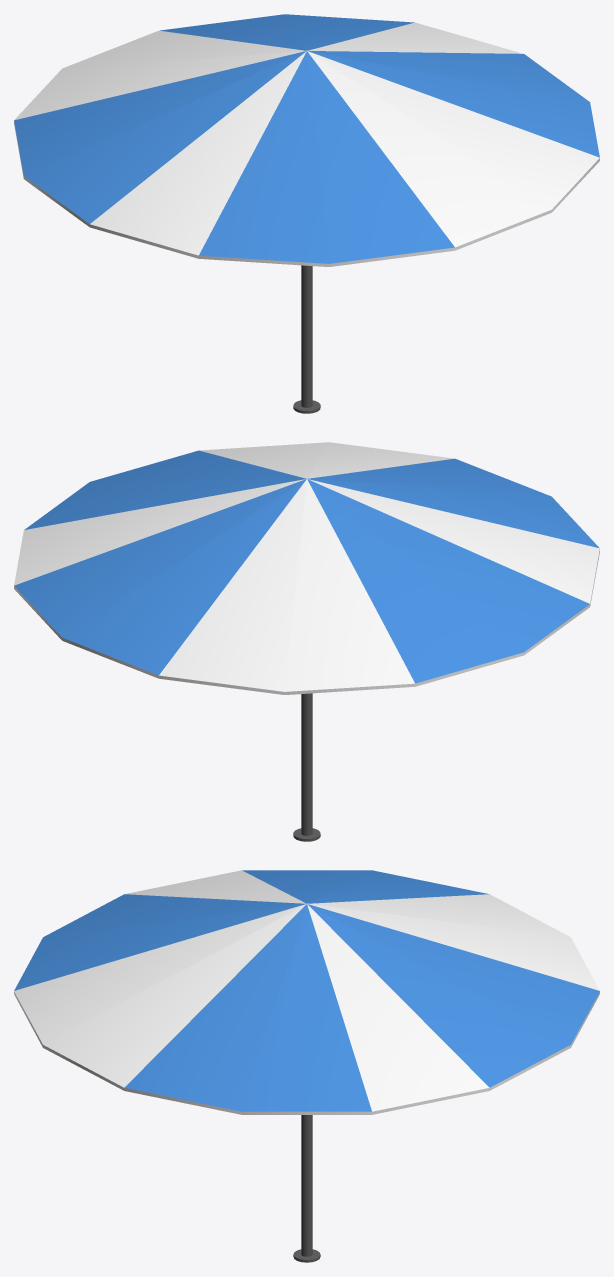
The model's file is umbrella.glb.
3 views of the same model, one above another, from view 1: azimuth 30°, elevation 25°; view 2: azimuth 150°, elevation 25°; view 3: azimuth 270°, elevation 25° (orthographic).
Visible parts, largest first — view 1: Umbrella.001; view 2: Umbrella.001; view 3: Umbrella.001.
Boxes of the visible parts, x1,y1,x2,y2 form: Umbrella.001: (14, 14, 599, 413); Umbrella.001: (14, 442, 599, 841); Umbrella.001: (14, 870, 599, 1262).
Size of the model in its own units: 1.57 by 1.07 by 1.61.
